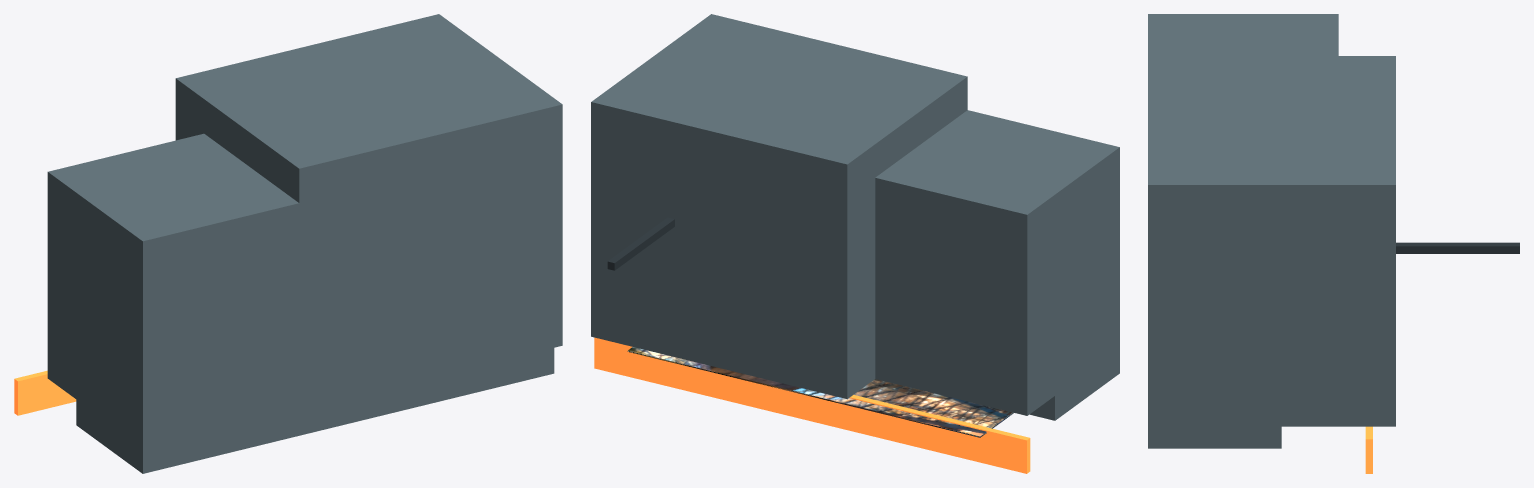
The model's file is rainline_cultural_pavilion_v1.glb.
3 renders of one model, left to right at view 1: azimuth 30°, elevation 25°; view 2: azimuth 150°, elevation 25°; view 3: azimuth 270°, elevation 25°, orthographic. The views are drawn at different scales.
Visible parts, largest first — view 1: CulturalWing.001, CulturalWing, CulturalWing.002, PavilionCanopy; view 2: CulturalWing.001, CulturalWing, PavilionCanopy, CulturalArtRecess, CulturalWing.002, PavilionSpire; view 3: CulturalWing.001, CulturalWing, CulturalWing.002, PavilionSpire.
Boxes of the visible parts, x1,y1,x2,y2 form: CulturalWing.001: [175, 14, 562, 387]; CulturalWing: [47, 133, 356, 447]; CulturalWing.002: [76, 287, 554, 473]; PavilionCanopy: [14, 370, 76, 415]; CulturalWing.001: [591, 14, 967, 399]; CulturalWing: [875, 110, 1119, 415]; PavilionCanopy: [594, 337, 1030, 473]; CulturalArtRecess: [627, 347, 1013, 437]; CulturalWing.002: [1030, 290, 1119, 420]; PavilionSpire: [607, 217, 674, 270]; CulturalWing.001: [1148, 56, 1395, 426]; CulturalWing: [1148, 14, 1338, 55]; CulturalWing.002: [1148, 426, 1281, 448]; PavilionSpire: [1396, 242, 1519, 253].
Bounding box in the file's own units: 27 × 16.5 × 19.5.
Materials: 5 (1 with a texture image).
